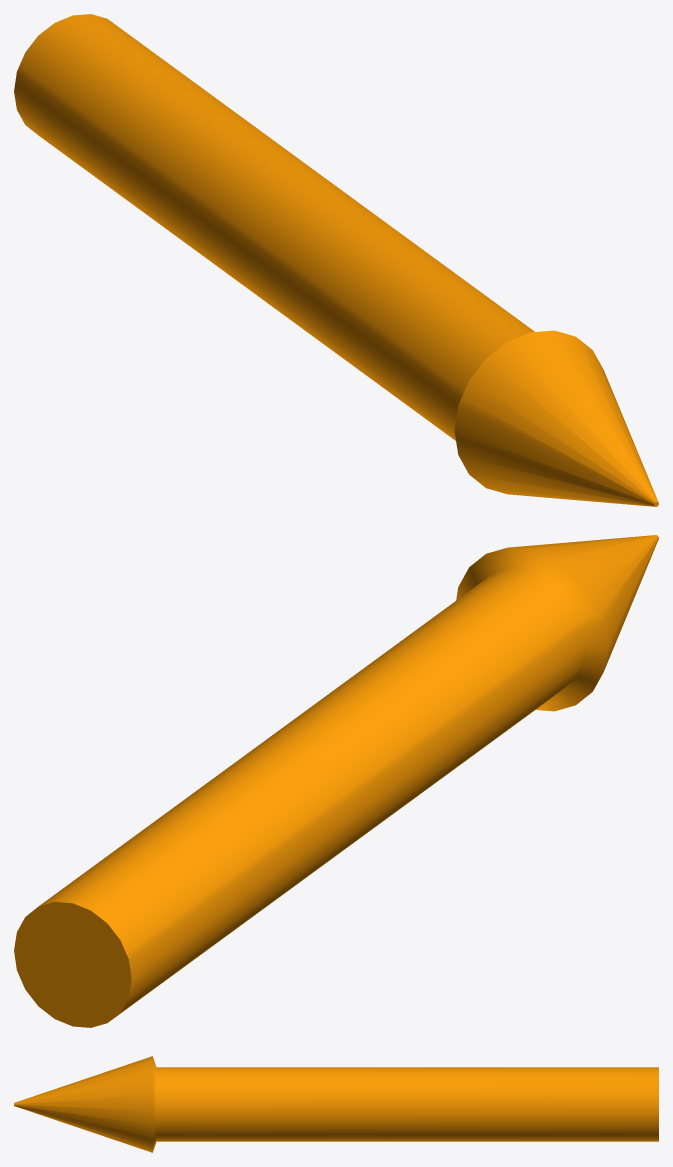
Rendered from Arrow.fbx.
3 views of the same model, one above another, from view 1: azimuth 30°, elevation 25°; view 2: azimuth 150°, elevation 25°; view 3: azimuth 270°, elevation 25° (orthographic). The views are drawn at different scales.
Parts seen in each view (by area): view 1: pCylinder1; view 2: pCylinder1; view 3: pCylinder1.
Part boxes in pixels (box(x1,y1,x2,y2)): pCylinder1: box(14, 14, 658, 506); pCylinder1: box(14, 535, 658, 1027); pCylinder1: box(14, 1056, 658, 1152).
Size of the model in its own units: 0.0638 by 0.0638 by 0.4219.
